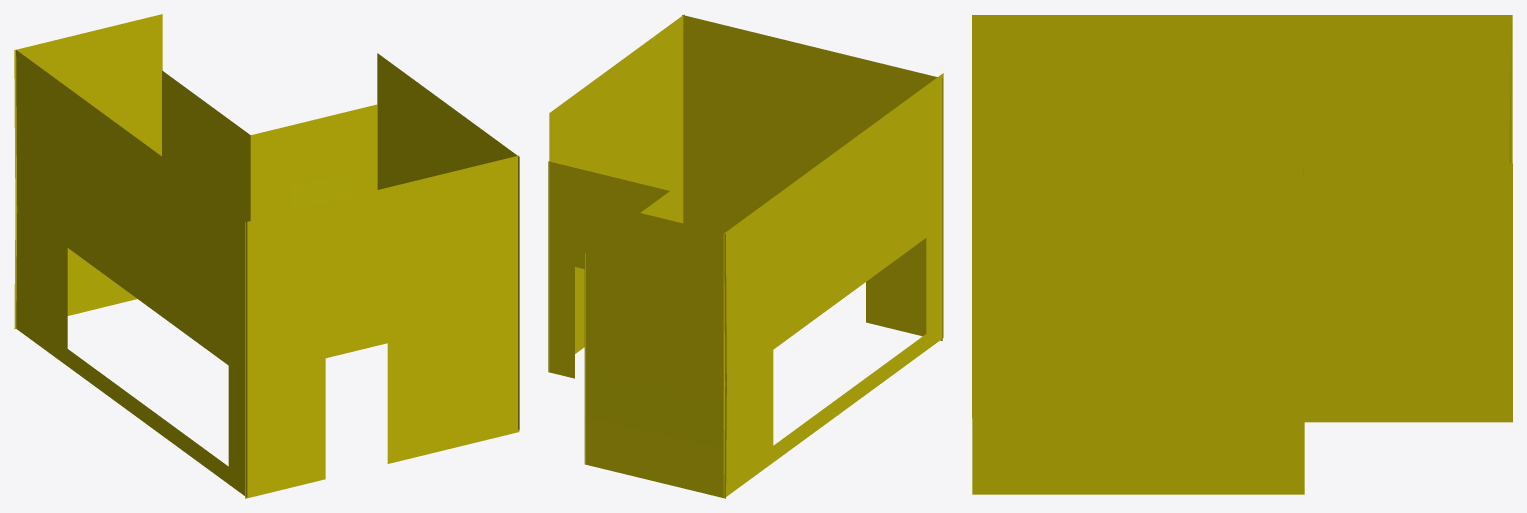
The picture shows the model from 3 angles, left to right: view 1: azimuth 30°, elevation 25°; view 2: azimuth 150°, elevation 25°; view 3: azimuth 270°, elevation 25°; orthographic projection. The views are drawn at different scales.
Visible parts, largest first — view 1: W_02B_WP_04; view 2: W_02B_WP_04; view 3: W_02B_WP_04.
Boxes of the visible parts, box(x1,y1,x2,y2) form: W_02B_WP_04: box(14, 14, 519, 498); W_02B_WP_04: box(548, 14, 943, 498); W_02B_WP_04: box(972, 15, 1512, 494).
Size of the model in its own units: 540 by 526 by 787.
